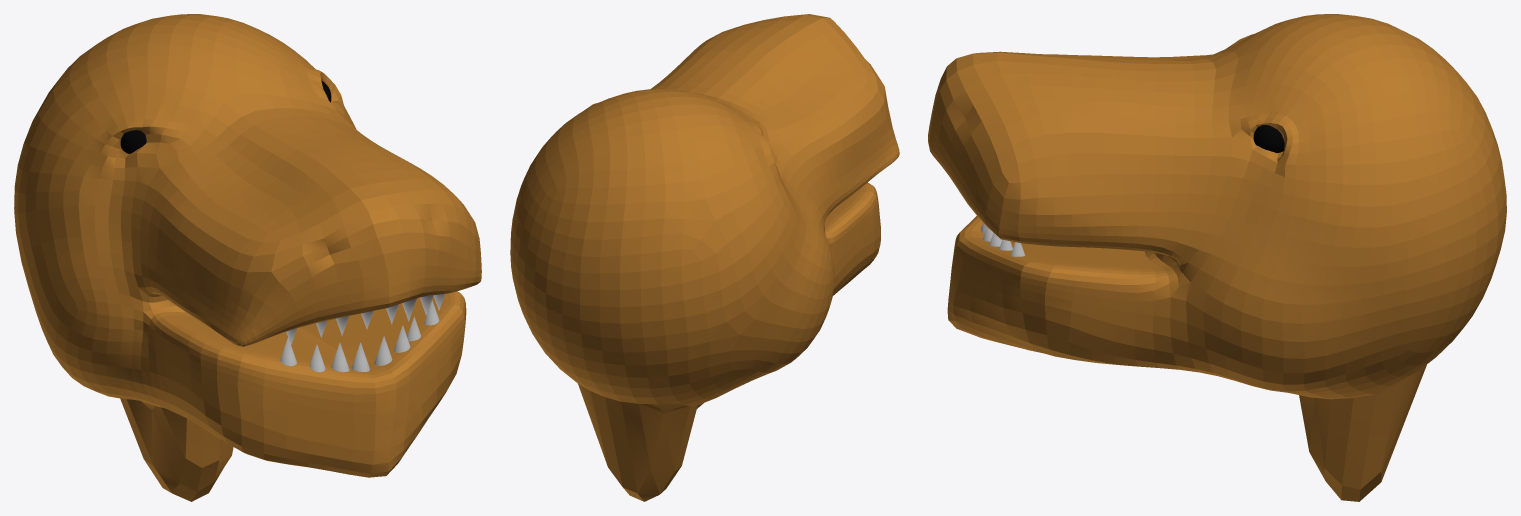
The model's file is Dino_Head_A.fbx.
3 views of the same model, side by side, from view 1: azimuth 30°, elevation 25°; view 2: azimuth 150°, elevation 25°; view 3: azimuth 270°, elevation 25° (orthographic). The views are drawn at different scales.
Parts seen in each view (by area): view 1: Dino_Head1; view 2: Dino_Head1; view 3: Dino_Head1.
Boxes of the visible parts, <box> form: Dino_Head1: <box>14,14,481,501</box>; Dino_Head1: <box>510,14,899,501</box>; Dino_Head1: <box>928,14,1506,501</box>.
Bounding box in the file's own units: 3.96 × 5.42 × 6.1.
